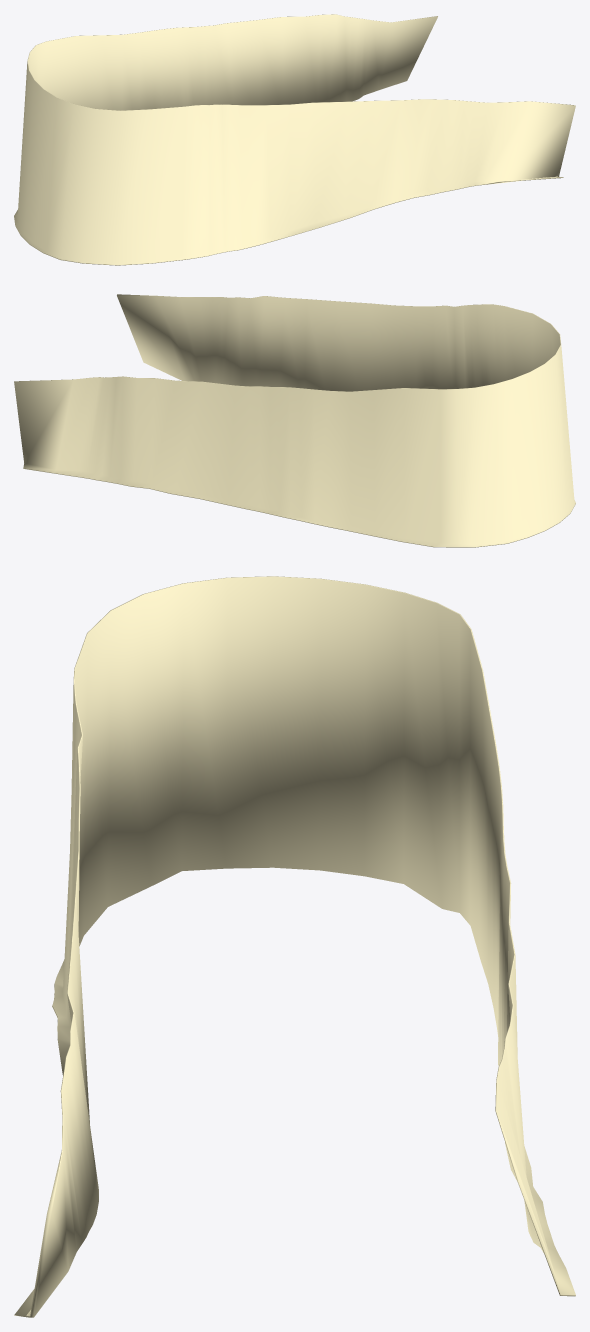
Rendered from RearLeftCream.obj.
3 views of the same model, one above another, from view 1: azimuth 30°, elevation 25°; view 2: azimuth 150°, elevation 25°; view 3: azimuth 270°, elevation 25° (orthographic). The views are drawn at different scales.
Visible parts, largest first — view 1: BezierCurveC_CUBezierCurve.004; view 2: BezierCurveC_CUBezierCurve.004; view 3: BezierCurveC_CUBezierCurve.004.
Boxes of the visible parts, x1,y1,x2,y2 form: BezierCurveC_CUBezierCurve.004: (14, 14, 575, 265); BezierCurveC_CUBezierCurve.004: (14, 294, 575, 547); BezierCurveC_CUBezierCurve.004: (14, 576, 575, 1317).
Bounding box in the file's own units: 17.44 × 5.35 × 8.76.
1 material, 1 textured.
